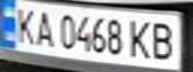0: (54, 11, 78, 51)
4: (72, 12, 93, 52)
6: (90, 13, 109, 55)
8: (106, 16, 127, 56)
A: (30, 7, 57, 47)
B: (148, 18, 181, 61)
K: (124, 16, 154, 60), (9, 3, 39, 45)
